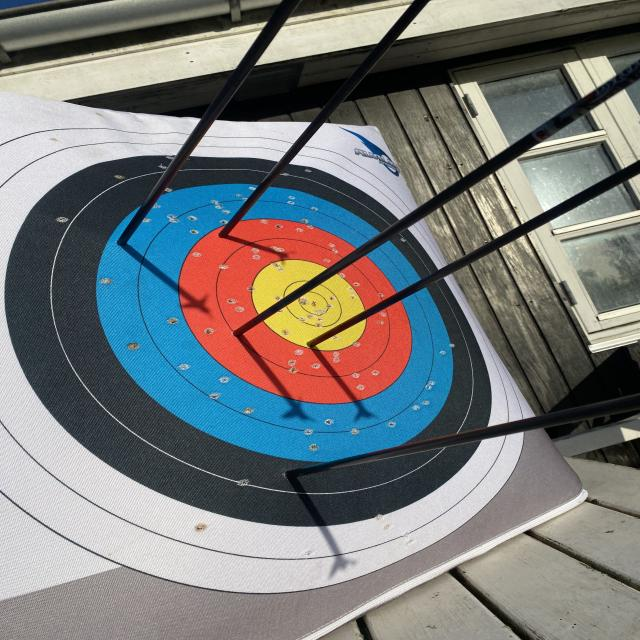Arrow_Black: (268, 460, 320, 491)
Arrow_Blue: (108, 225, 160, 255)
Arrow_Red: (223, 314, 271, 357), (212, 222, 253, 251)
Arrow_Yellow: (299, 328, 341, 370)
